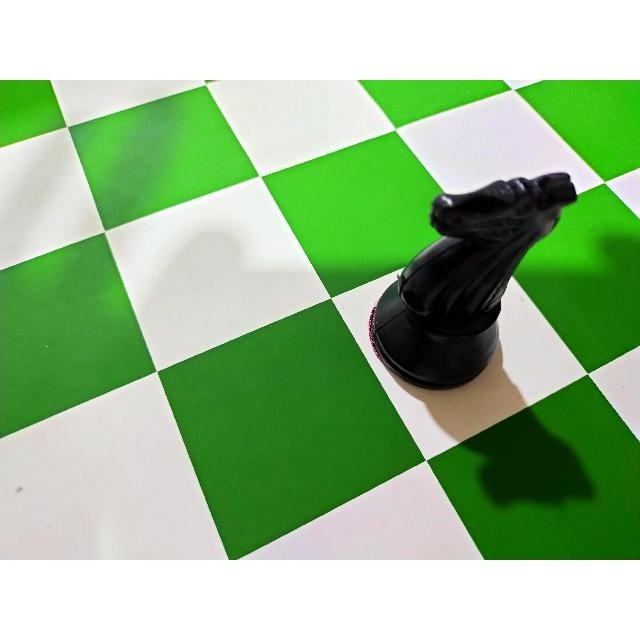black-knight: (360, 169, 581, 398)
